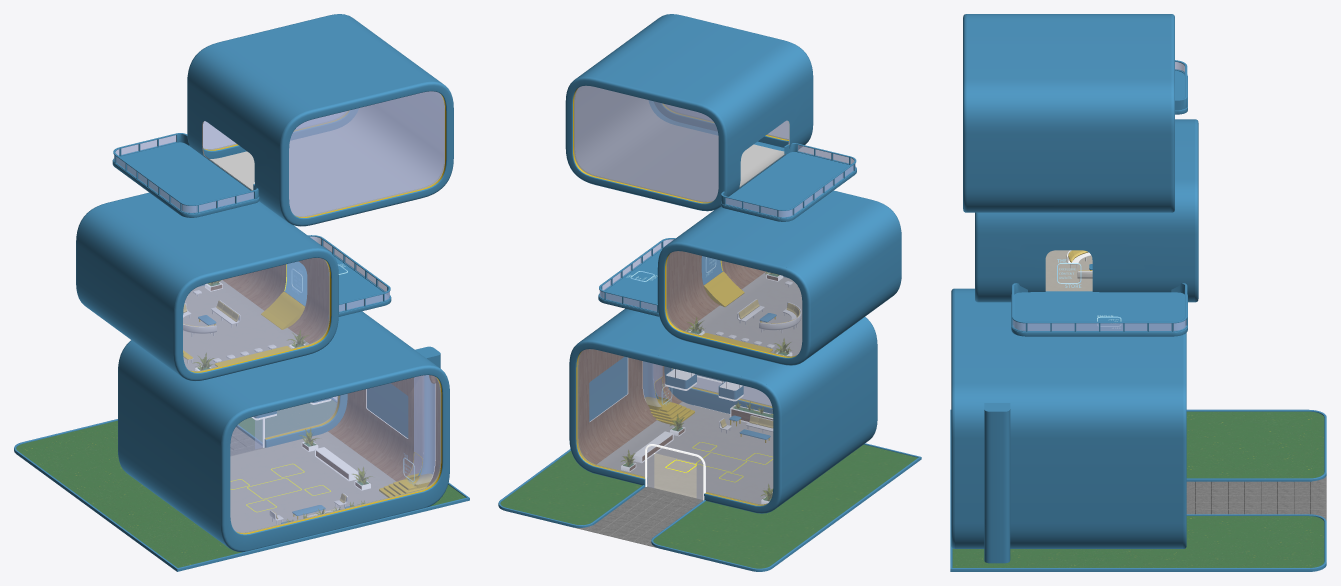
Rendered from UPS_MainGeo.glb.
3 renders of one model, left to right at view 1: azimuth 30°, elevation 25°; view 2: azimuth 150°, elevation 25°; view 3: azimuth 270°, elevation 25°, orthographic. The views are drawn at different scales.
Visible parts, largest first — view 1: Box076, Box070, Box059, Box556, Box084, Box087, Box060, Line2296, Box670, Box342, Line2290, Line2335 (+18 smaller); view 2: Box038, Box076, Box059, Line2296, Box556, Box058, Box065, Box060, Box047, Box342, Line2335, Box081 (+18 smaller); view 3: Box076, Box059, Line2296, Box556, Line2292, Box368, Line2294, Box560, Line2306, Line2290, Line2287, Box064 (+11 smaller).
Part boxes in pixels (x1=…): Box076: x1=118, y1=311, x2=439, y2=546; Box070: x1=230, y1=375, x2=441, y2=533; Box059: x1=187, y1=14, x2=443, y2=221; Box556: x1=76, y1=193, x2=328, y2=375; Box084: x1=289, y1=91, x2=444, y2=216; Box087: x1=289, y1=91, x2=444, y2=217; Box060: x1=202, y1=91, x2=443, y2=215; Line2296: x1=16, y1=400, x2=465, y2=567; Box670: x1=183, y1=258, x2=329, y2=371; Box342: x1=230, y1=431, x2=395, y2=532; Line2290: x1=221, y1=365, x2=449, y2=552; Line2335: x1=112, y1=133, x2=259, y2=217; Box038: x1=577, y1=349, x2=773, y2=505; Box076: x1=579, y1=308, x2=876, y2=508; Box059: x1=575, y1=14, x2=812, y2=196; Line2296: x1=500, y1=444, x2=917, y2=568; Box556: x1=667, y1=191, x2=901, y2=360; Box058: x1=574, y1=86, x2=718, y2=202; Box065: x1=574, y1=86, x2=718, y2=202; Box060: x1=575, y1=86, x2=789, y2=201; Box047: x1=666, y1=251, x2=802, y2=356; Box342: x1=597, y1=402, x2=773, y2=504; Line2335: x1=720, y1=143, x2=856, y2=221; Box081: x1=578, y1=349, x2=682, y2=464; Box076: x1=955, y1=288, x2=1183, y2=548; Box059: x1=966, y1=14, x2=1171, y2=212; Line2296: x1=952, y1=411, x2=1324, y2=567; Box556: x1=978, y1=119, x2=1194, y2=302; Line2292: x1=1011, y1=283, x2=1187, y2=336; Box368: x1=984, y1=409, x2=1010, y2=563; Line2294: x1=950, y1=409, x2=1326, y2=571; Box560: x1=1045, y1=250, x2=1092, y2=291; Line2306: x1=1012, y1=319, x2=1186, y2=330; Line2290: x1=951, y1=288, x2=954, y2=548; Line2287: x1=1183, y1=333, x2=1186, y2=548; Box064: x1=1171, y1=14, x2=1174, y2=212.
Size of the model in its own units: 32 by 44.1 by 32.
Materials: 16 (7 with a texture image).
